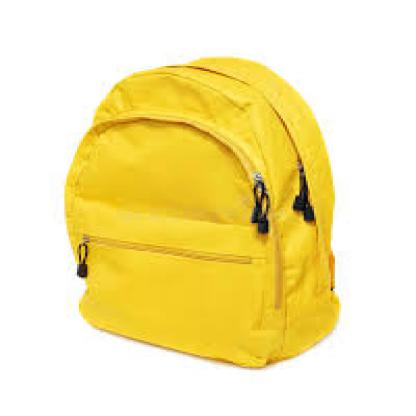morral: (52, 38, 372, 373)
